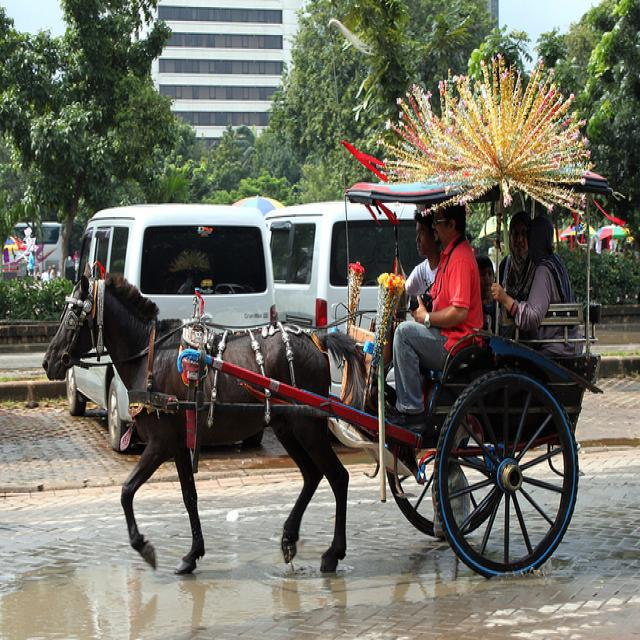Vehicle: (64, 204, 285, 450), (62, 204, 274, 446), (263, 202, 427, 400), (266, 201, 416, 333)
